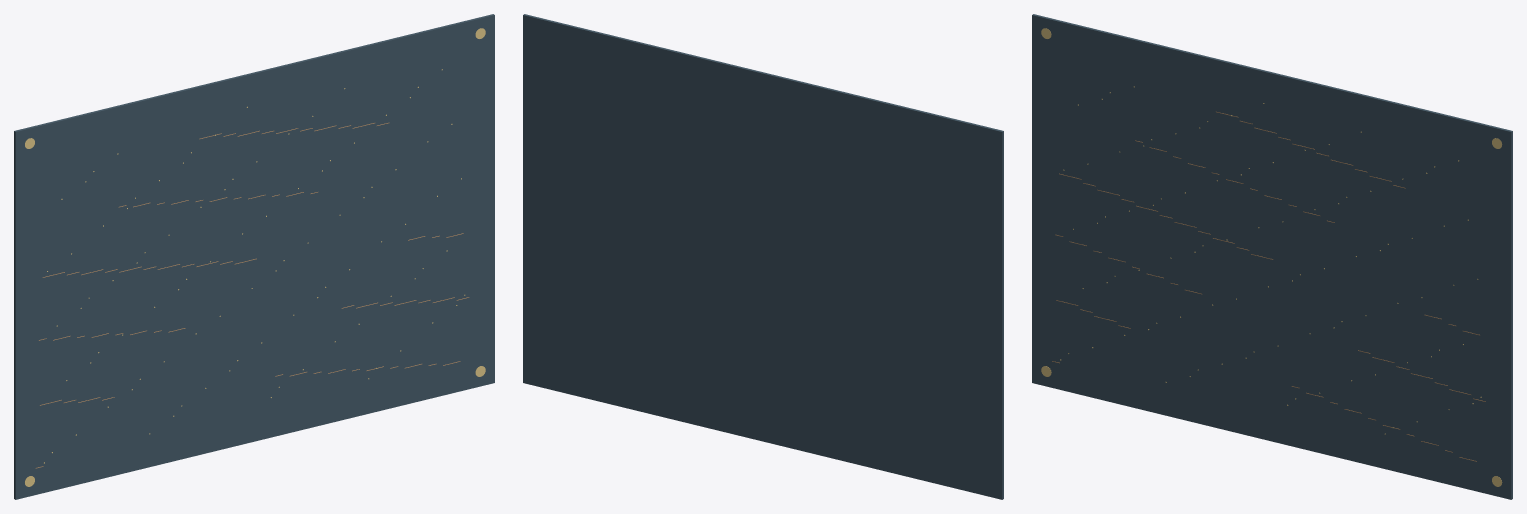
The model's file is 125_L109_TRX17_EmptyPCB.glb.
3 renders of one model, left to right at view 1: azimuth 30°, elevation 25°; view 2: azimuth 150°, elevation 25°; view 3: azimuth 330°, elevation 25°, orthographic.
Parts seen in each view (by area): view 1: L109_TRX17_EmptyPCB_PCB, L109_TRX17_EmptyPCB_COPPER, L109_TRX17_EmptyPCB_GOLD; view 2: L109_TRX17_EmptyPCB_PCB; view 3: L109_TRX17_EmptyPCB_PCB, L109_TRX17_EmptyPCB_COPPER, L109_TRX17_EmptyPCB_GOLD.
Boxes of the visible parts, x1,y1,x2,y2 form: L109_TRX17_EmptyPCB_PCB: [14, 14, 494, 499]; L109_TRX17_EmptyPCB_COPPER: [35, 122, 469, 468]; L109_TRX17_EmptyPCB_GOLD: [24, 28, 485, 486]; L109_TRX17_EmptyPCB_PCB: [523, 14, 1003, 499]; L109_TRX17_EmptyPCB_PCB: [1032, 14, 1512, 499]; L109_TRX17_EmptyPCB_COPPER: [1052, 111, 1485, 461]; L109_TRX17_EmptyPCB_GOLD: [1041, 28, 1502, 486].
Size of the model in its own units: 300 by 220 by 1.75.
